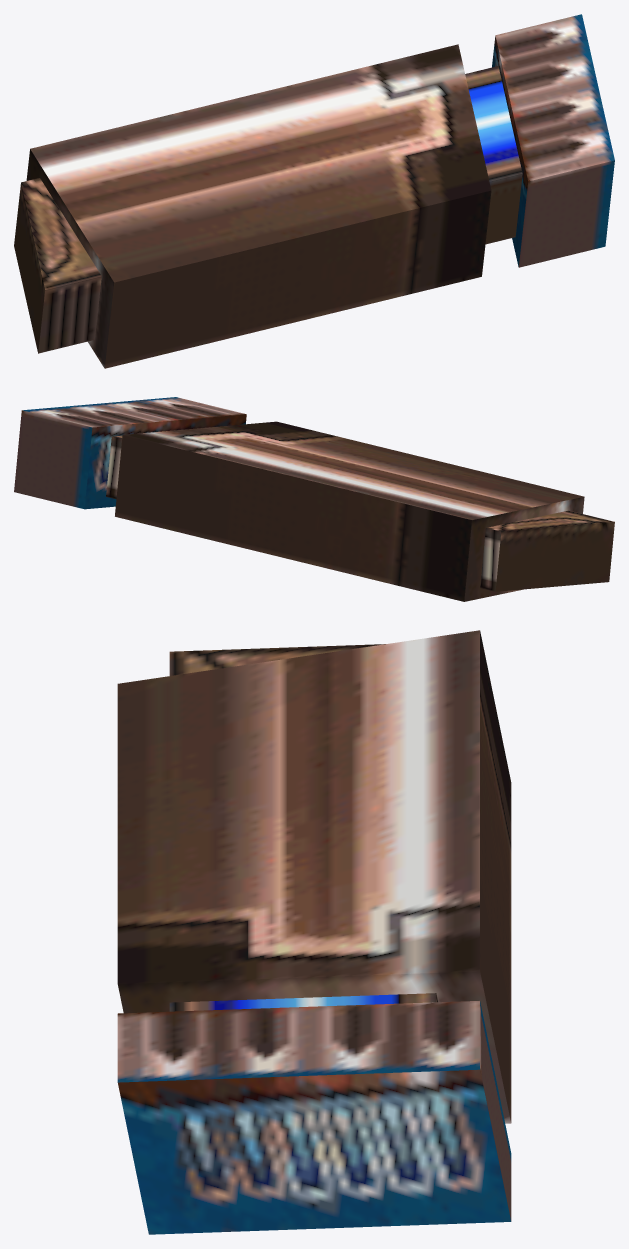
3 renders of one model, top to bottom at view 1: azimuth 30°, elevation 25°; view 2: azimuth 150°, elevation 25°; view 3: azimuth 270°, elevation 25°, orthographic. The views are drawn at different scales.
Parts seen in each view (by area): view 1: BW216; view 2: BW216; view 3: BW216.
Part boxes in pixels (x1,y1,x2,y2): BW216: (14,14,614,368); BW216: (14,397,614,601); BW216: (117,630,511,1234).
Size of the model in its own units: 22.68 by 4.77 by 7.49.
1 material, 1 textured.
